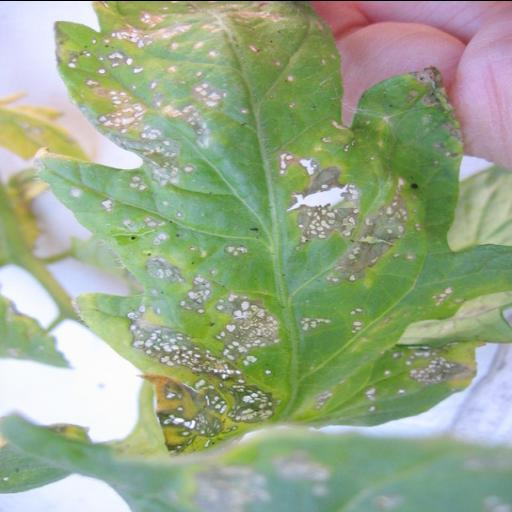Septoria: (24, 0, 512, 465)
